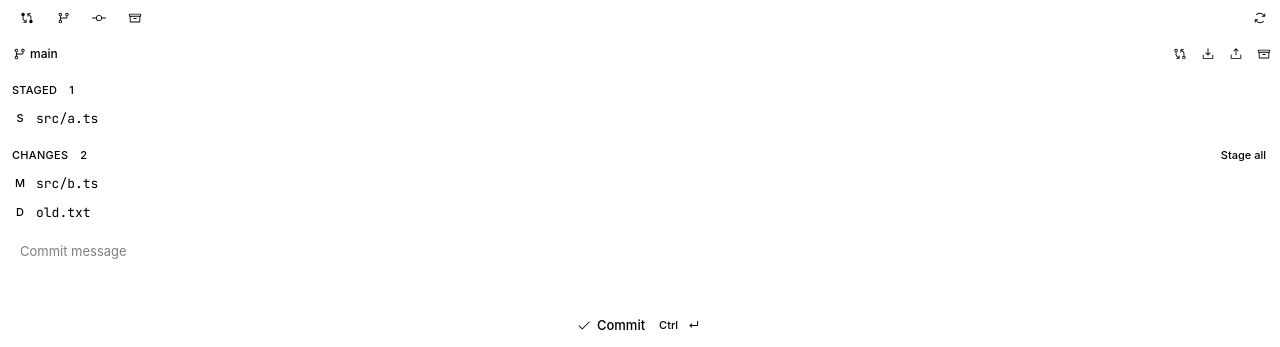
Test case: GitPanel › opens the diff of a file from its row and goes back
Click the button with aria-label "src/b.ts, modified": [67, 184] box [4,169,1276,198]
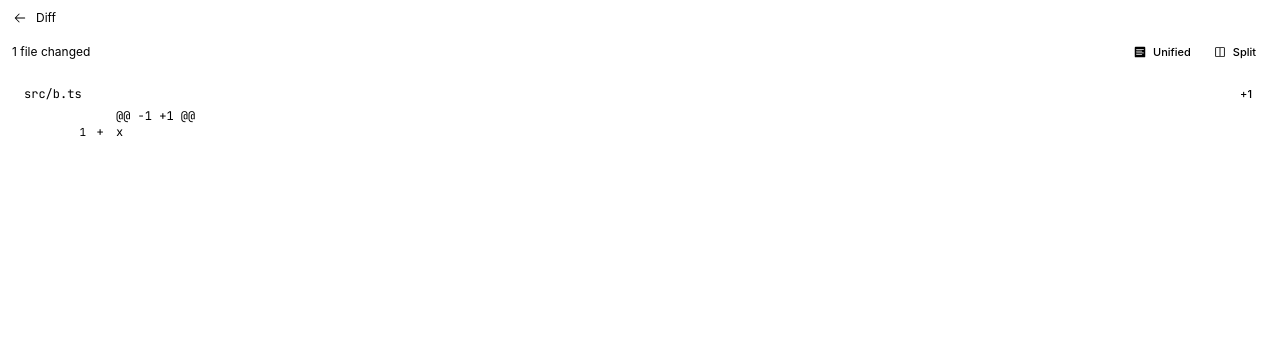
Check: the text "1 file changed" is shown, box [12,44,90,60]
Click the button named "Back to changes": [20, 18] box [8,6,32,30]
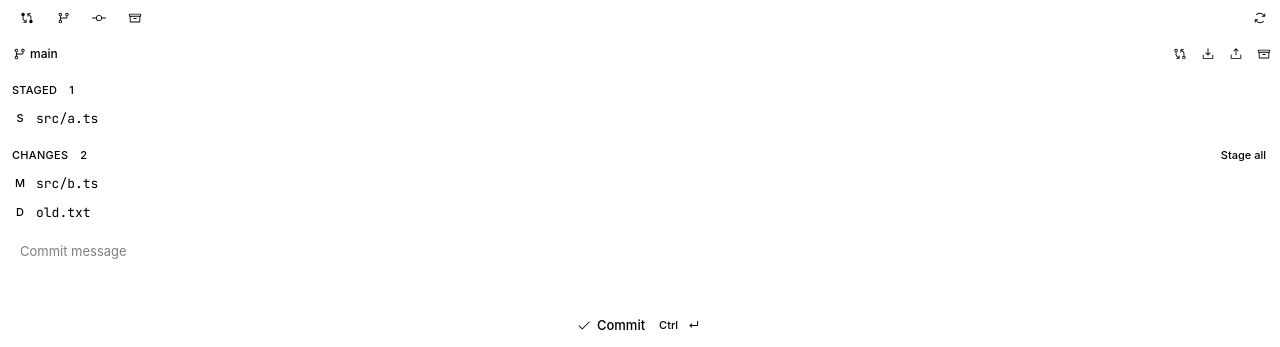
Check: the element "Staged" is shown, box [4,76,1276,133]
